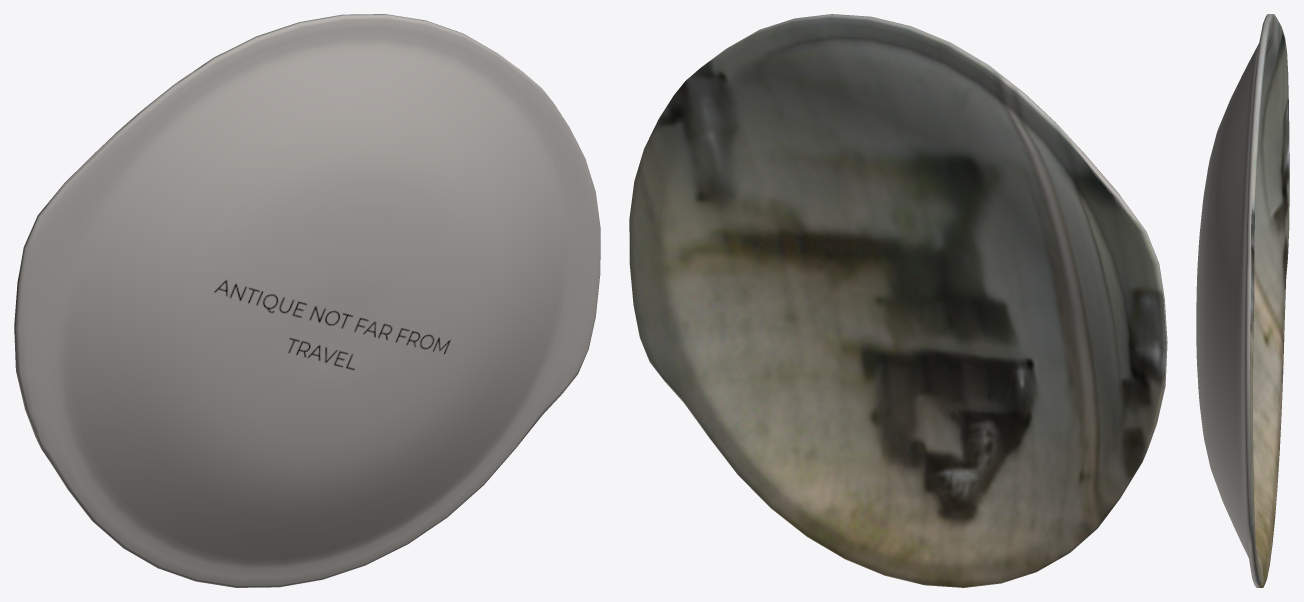
The picture shows the model from 3 angles, left to right: view 1: azimuth 30°, elevation 25°; view 2: azimuth 150°, elevation 25°; view 3: azimuth 270°, elevation 25°; orthographic projection. The views are drawn at different scales.
Parts seen in each view (by area): view 1: bluewhitered39:_bluewhitered_39_remodel1 group; view 2: bluewhitered39:_bluewhitered_39_remodel1 group; view 3: bluewhitered39:_bluewhitered_39_remodel1 group.
Part boxes in pixels (x1,y1,x2,y2): bluewhitered39:_bluewhitered_39_remodel1 group: (14,14,600,587); bluewhitered39:_bluewhitered_39_remodel1 group: (629,14,1167,587); bluewhitered39:_bluewhitered_39_remodel1 group: (1196,14,1289,587).
Bounding box in the file's own units: 8.8 × 8.37 × 1.36.
1 material, 1 textured.
